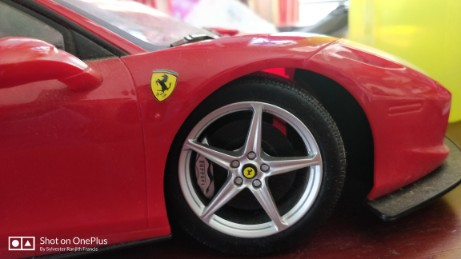unaligned_wheel: (167, 73, 347, 249)
